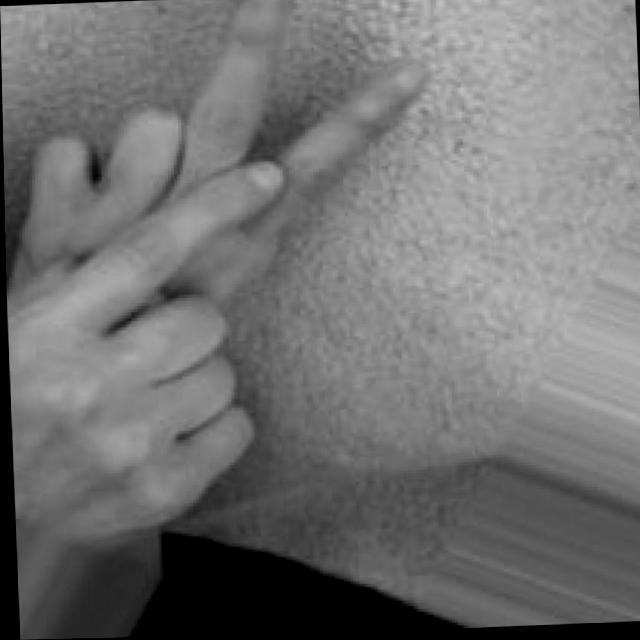Y: (0, 0, 450, 536)
